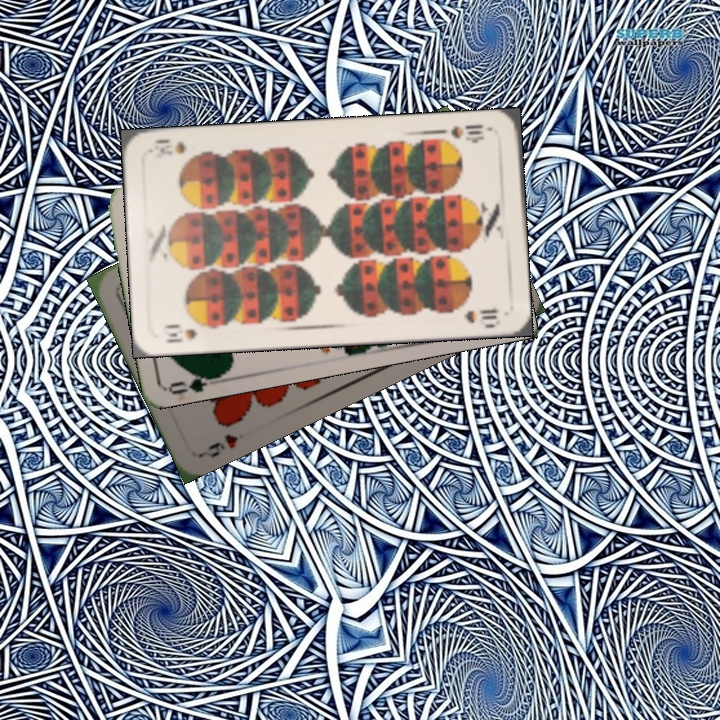GO: (166, 367, 226, 397)
H9: (197, 429, 241, 461)
S10: (157, 318, 215, 346), (447, 120, 495, 144)
